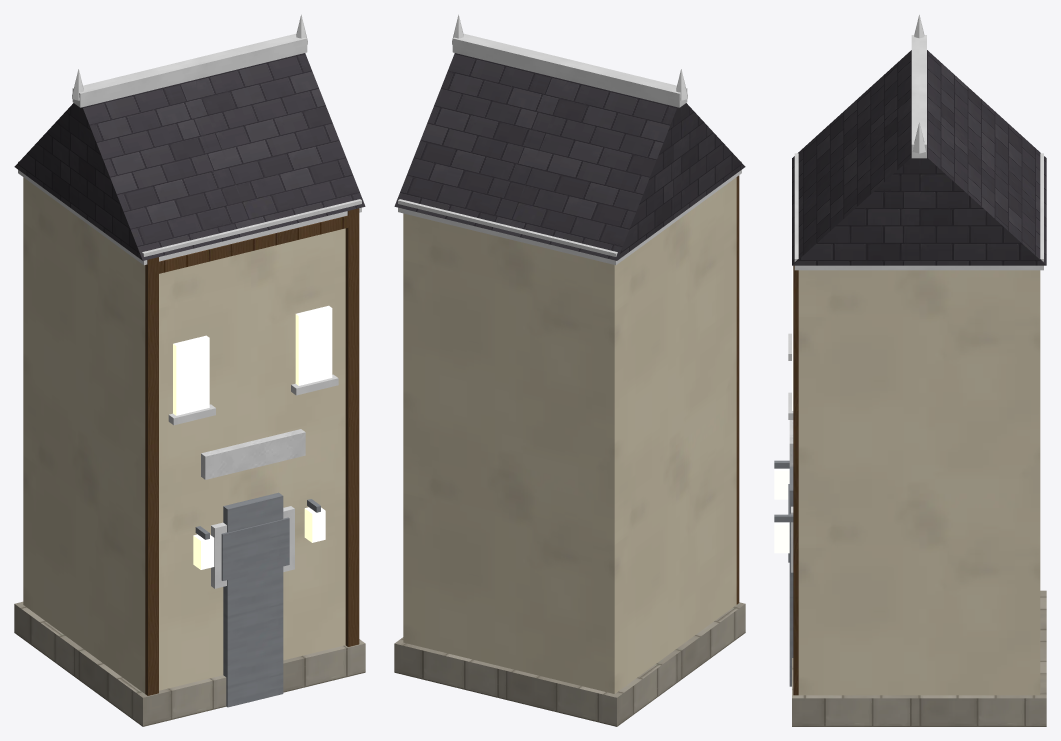
Rendered from category.lending.t6.glb.
3 renders of one model, left to right at view 1: azimuth 30°, elevation 25°; view 2: azimuth 150°, elevation 25°; view 3: azimuth 270°, elevation 25°, orthographic.
Parts seen in each view (by area): view 1: building.category.lending.t6; view 2: building.category.lending.t6; view 3: building.category.lending.t6.
Part boxes in pixels (left/top/right/bottom): building.category.lending.t6: left=14, top=14, right=365, bottom=726; building.category.lending.t6: left=394, top=14, right=745, bottom=726; building.category.lending.t6: left=774, top=14, right=1046, bottom=726.
Size of the model in its own units: 2.12 by 5.25 by 2.14.
8 materials, 7 textured.
